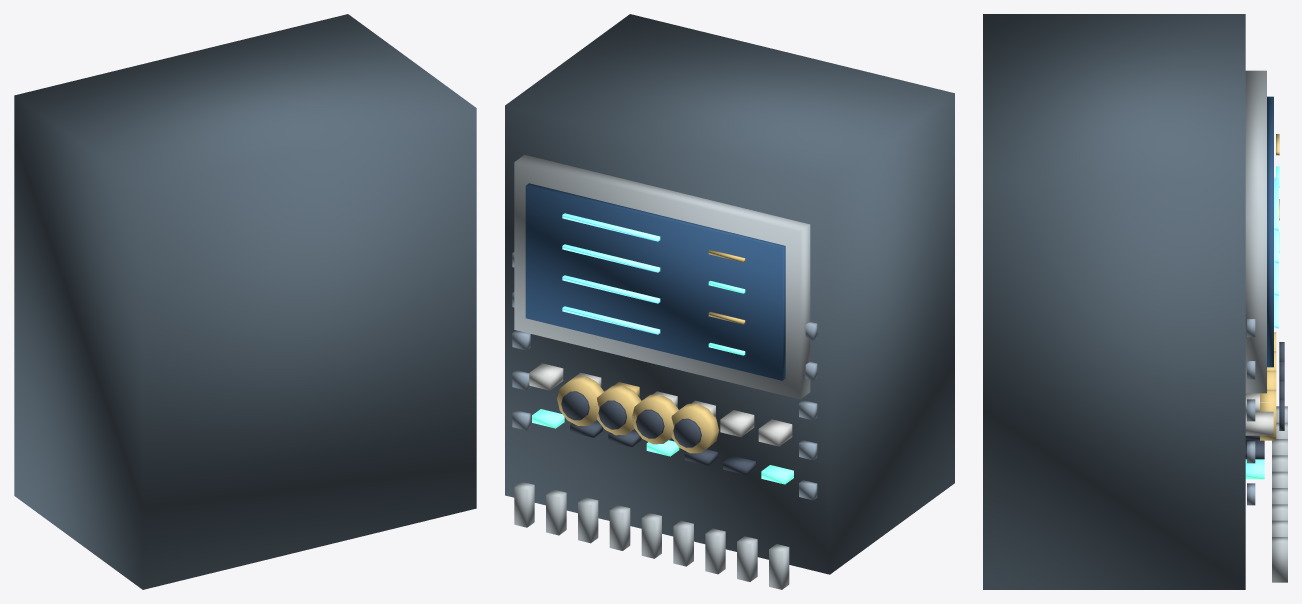
Rendered from L84_57_StructuralVibrationSensor_Fitted.fbx.
3 renders of one model, left to right at view 1: azimuth 30°, elevation 25°; view 2: azimuth 150°, elevation 25°; view 3: azimuth 270°, elevation 25°, orthographic. The views are drawn at different scales.
Parts seen in each view (by area): view 1: L84_StructuralVibrationSensor_Static__tint1C2933; view 2: L84_StructuralVibrationSensor_Static__tint1C2933, L84_StructuralVibrationSensor_Static__tint0B214A, L84_StructuralVibrationSensor_Static__tint91A3AD, L84_StructuralVibrationSensor_Static__tintF2B547, L84_StructuralVibrationSensor_Static__tint131B26, L84_StructuralVibrationSensor_Static__tintCCD4CF, L84_StructuralVibrationSensor_Static__tint38CCFC, L84_StructuralVibrationSensor_Static__tint59738F, L84_StructuralVibrationSensor_Static__tint2BF0A8; view 3: L84_StructuralVibrationSensor_Static__tint1C2933, L84_StructuralVibrationSensor_Static__tint91A3AD, L84_StructuralVibrationSensor_Static__tint0B214A, L84_StructuralVibrationSensor_Static__tintF2B547, L84_StructuralVibrationSensor_Static__tint59738F, L84_StructuralVibrationSensor_Static__tint131B26, L84_StructuralVibrationSensor_Static__tintCCD4CF, L84_StructuralVibrationSensor_Static__tint38CCFC, L84_StructuralVibrationSensor_Static__tint2BF0A8.
Boxes of the visible parts, bbox=[...] form: L84_StructuralVibrationSensor_Static__tint1C2933: bbox=[14, 14, 476, 589]; L84_StructuralVibrationSensor_Static__tint1C2933: bbox=[505, 14, 954, 574]; L84_StructuralVibrationSensor_Static__tint0B214A: bbox=[525, 183, 785, 380]; L84_StructuralVibrationSensor_Static__tint91A3AD: bbox=[514, 154, 810, 589]; L84_StructuralVibrationSensor_Static__tintF2B547: bbox=[557, 249, 745, 453]; L84_StructuralVibrationSensor_Static__tint131B26: bbox=[561, 391, 755, 475]; L84_StructuralVibrationSensor_Static__tintCCD4CF: bbox=[529, 363, 792, 446]; L84_StructuralVibrationSensor_Static__tint38CCFC: bbox=[562, 213, 660, 334]; L84_StructuralVibrationSensor_Static__tint59738F: bbox=[512, 252, 817, 500]; L84_StructuralVibrationSensor_Static__tint2BF0A8: bbox=[532, 280, 793, 484]; L84_StructuralVibrationSensor_Static__tint1C2933: bbox=[983, 14, 1245, 589]; L84_StructuralVibrationSensor_Static__tint91A3AD: bbox=[1245, 70, 1287, 582]; L84_StructuralVibrationSensor_Static__tint0B214A: bbox=[1267, 96, 1273, 367]; L84_StructuralVibrationSensor_Static__tintF2B547: bbox=[1260, 134, 1279, 440]; L84_StructuralVibrationSensor_Static__tint59738F: bbox=[1247, 319, 1255, 505]; L84_StructuralVibrationSensor_Static__tint131B26: bbox=[1245, 342, 1284, 459]; L84_StructuralVibrationSensor_Static__tintCCD4CF: bbox=[1245, 393, 1273, 435]; L84_StructuralVibrationSensor_Static__tint38CCFC: bbox=[1274, 177, 1278, 328]; L84_StructuralVibrationSensor_Static__tint2BF0A8: bbox=[1245, 166, 1279, 479].
Size of the model in its own units: 9.6 by 11.22 by 7.42.
